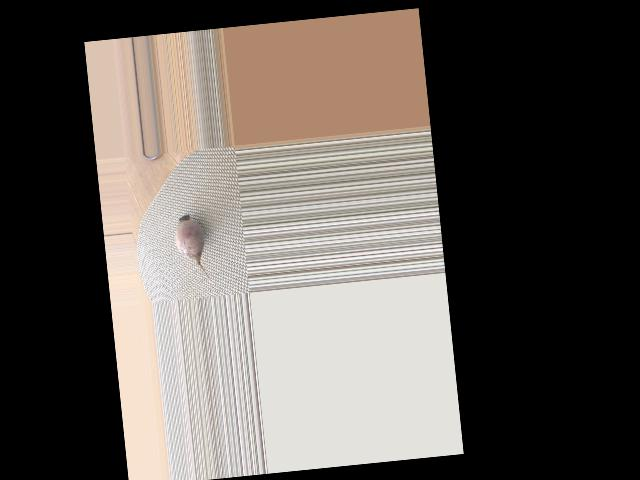beet: (173, 212, 215, 287)
